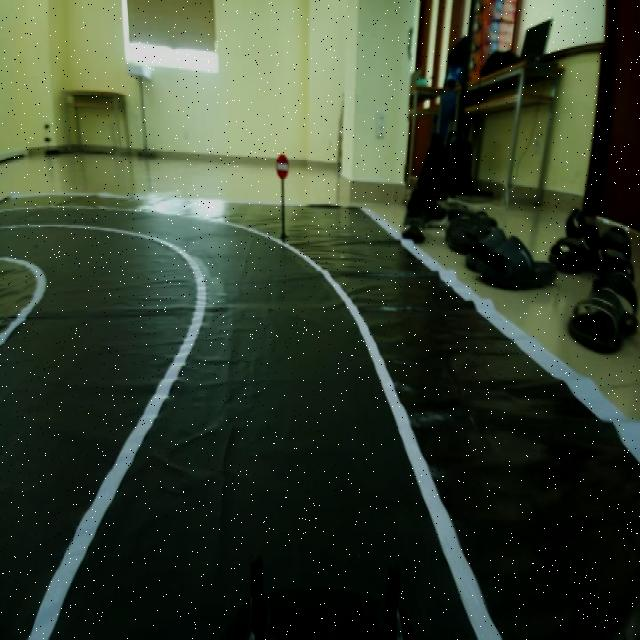no_entry: (271, 150, 297, 183)
